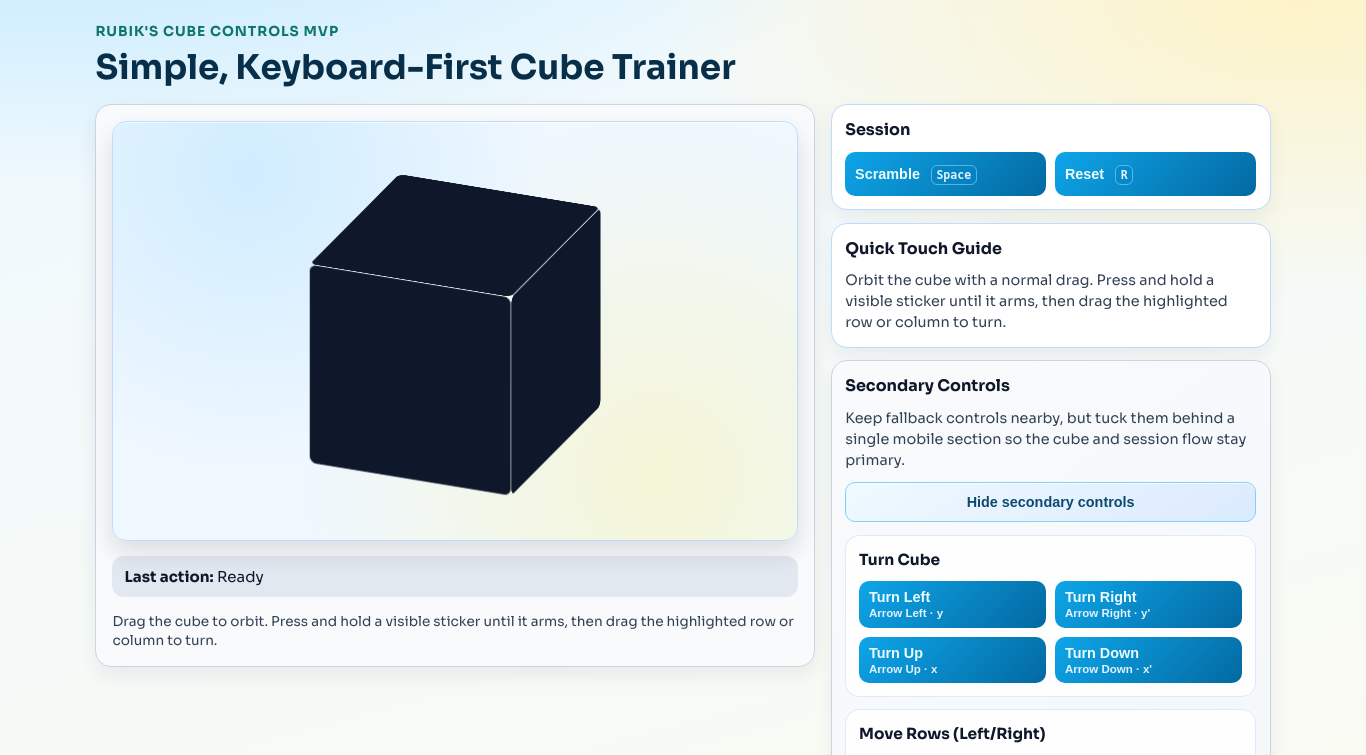
Test: App smoke flows › maps left/right orientation buttons to expected turn directions
The width and height of the screenshot is (1366, 755).
Click the button "Turn Left Arrow Left · y" at (953, 604), box [859,581,1046,628]
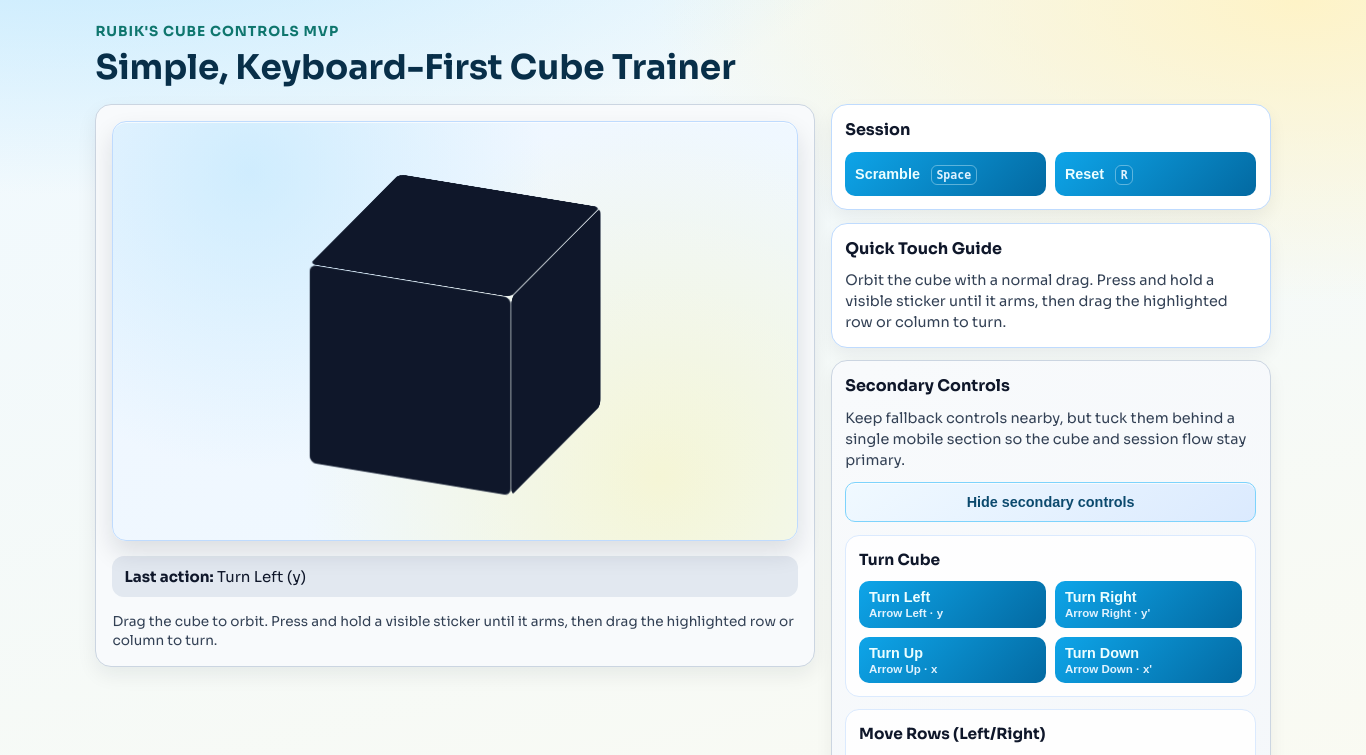
Check: the text "Last action: Turn Left (y)" is shown, box [112,556,798,597]
Click the button "Turn Right Arrow Right · y'" at (1149, 604), box [1055,581,1242,628]
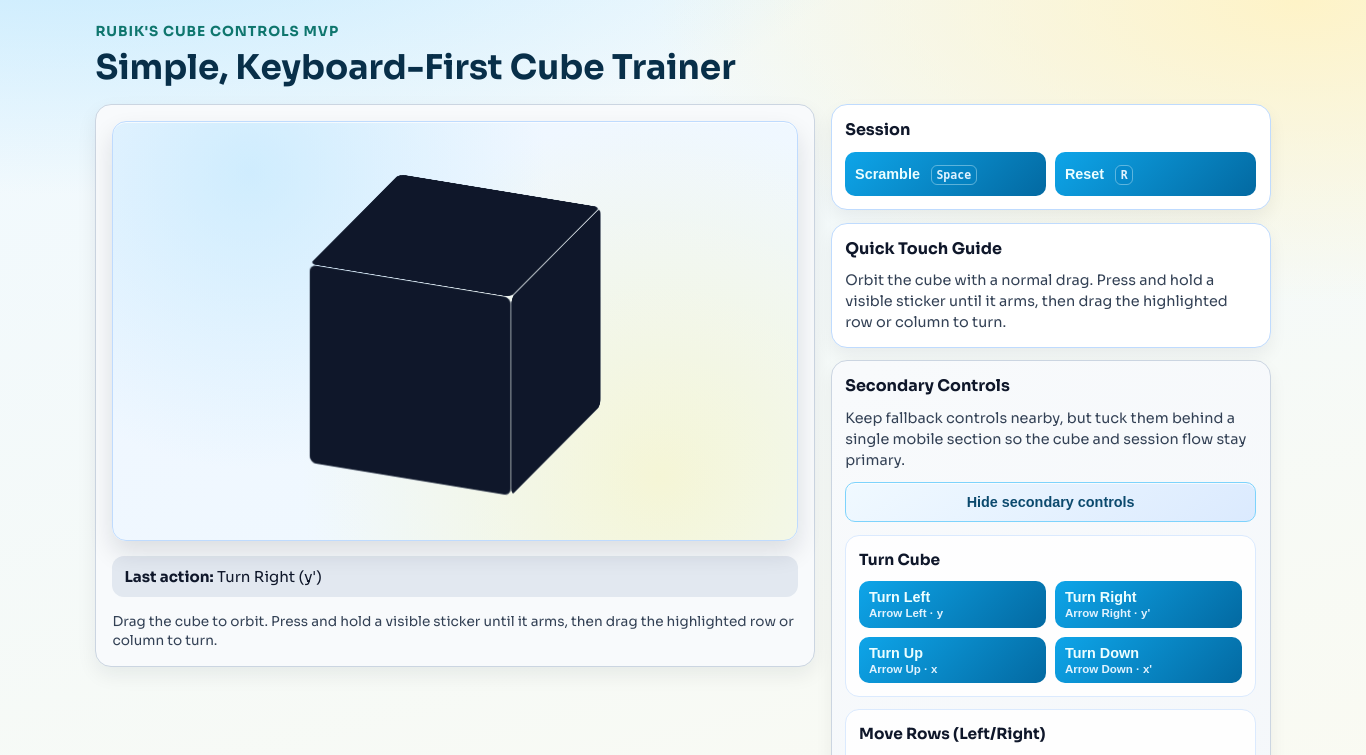
Check: the text "Last action: Turn Right (y')" is shown, box [112,556,798,597]
